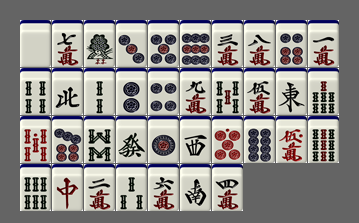0m: (276, 116, 307, 163)
0p: (212, 116, 243, 163)
0s: (20, 116, 51, 163)
1m: (308, 20, 339, 67)
1p: (148, 116, 179, 163)
1s: (84, 20, 115, 67)
1z: (276, 68, 307, 115)
2m: (84, 164, 115, 211)
2p: (116, 68, 147, 115)
2s: (84, 68, 115, 115)
2z: (180, 164, 211, 211)
3m: (212, 20, 243, 67)
3p: (116, 20, 147, 67)
3s: (116, 164, 147, 211)
3z: (180, 116, 211, 163)
4m: (212, 164, 243, 211)
4p: (148, 68, 179, 115)
4s: (20, 68, 51, 115)
4z: (52, 68, 83, 115)
5m: (244, 68, 275, 115)
5p: (148, 20, 179, 67)
5s: (212, 68, 243, 115)
5z: (20, 20, 51, 67)
6m: (148, 164, 179, 211)
6p: (276, 20, 307, 67)
6s: (20, 164, 51, 211)
6z: (116, 116, 147, 163)
7m: (52, 20, 83, 67)
7p: (52, 116, 83, 163)
7s: (308, 68, 339, 115)
7z: (52, 164, 83, 211)
8m: (244, 20, 275, 67)
8p: (244, 116, 275, 163)
8s: (84, 116, 115, 163)
9m: (180, 68, 211, 115)
9p: (180, 20, 211, 67)
9s: (308, 116, 339, 163)
